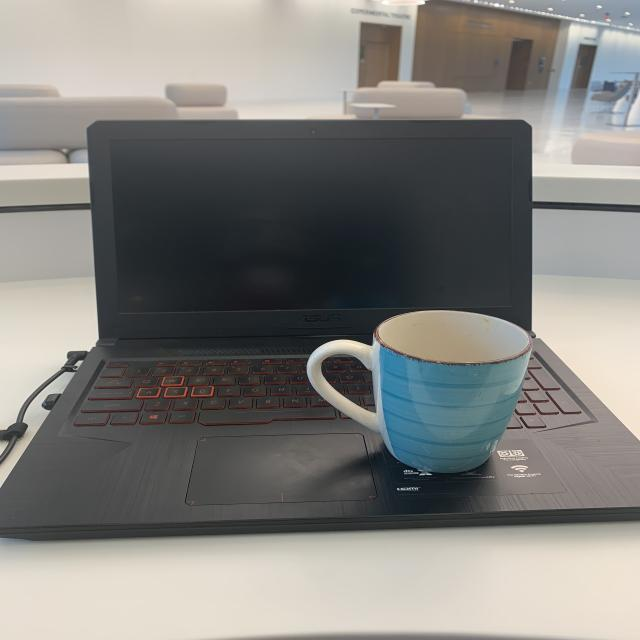Cup: (294, 298, 543, 496)
